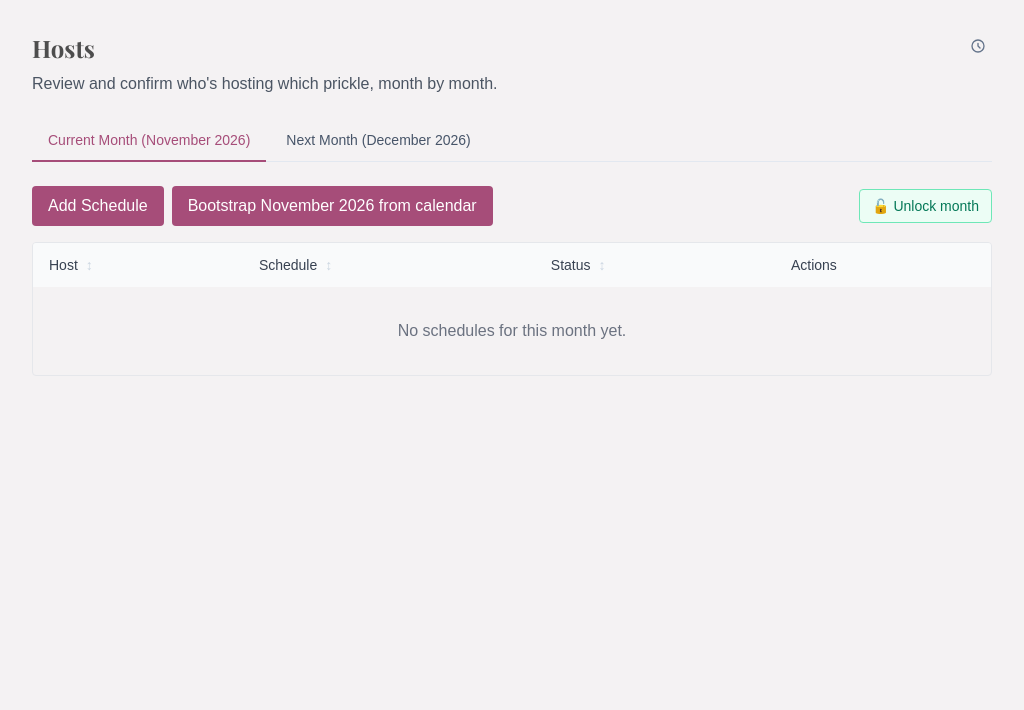
it: HostsClient add-host eligibility warning › warns before saving when the member isn't eligible yet, with the eligible-on date
This screenshot has width=1024, height=710.
Expected: the text "No schedules for this month yet." is shown, left=33, top=287, right=991, bottom=375
Click the button "Add Schedule".
click(98, 206)  # box left=32, top=186, right=164, bottom=226
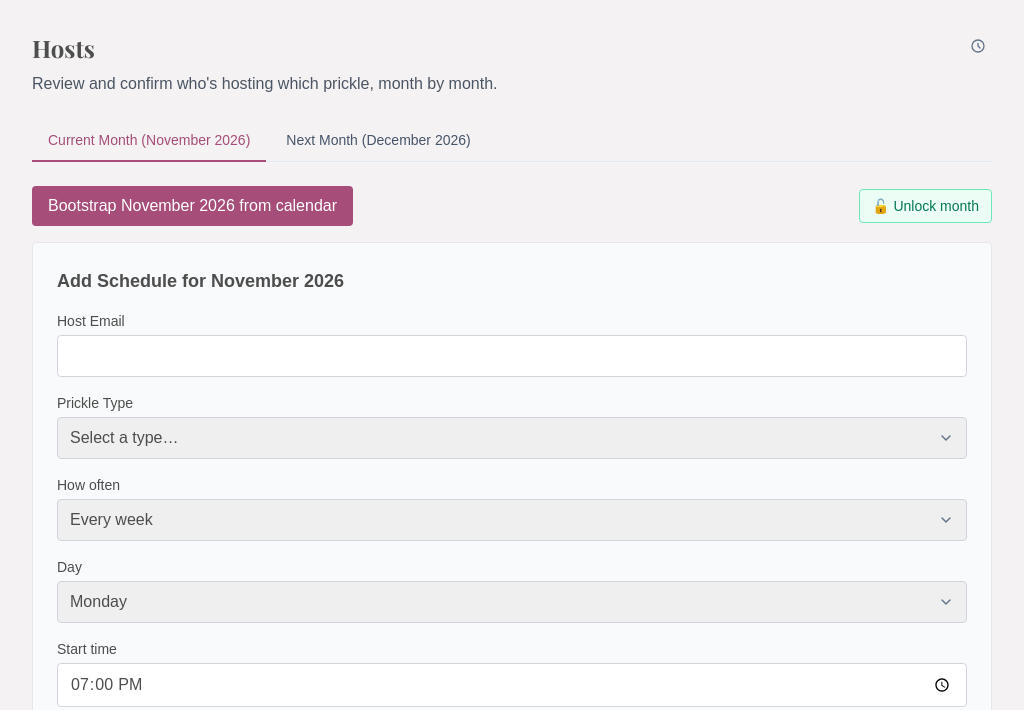
Type "new@example.test" into the field labelled "Host Email".
click(512, 356); type("new@example.test")  # box left=57, top=335, right=967, bottom=377
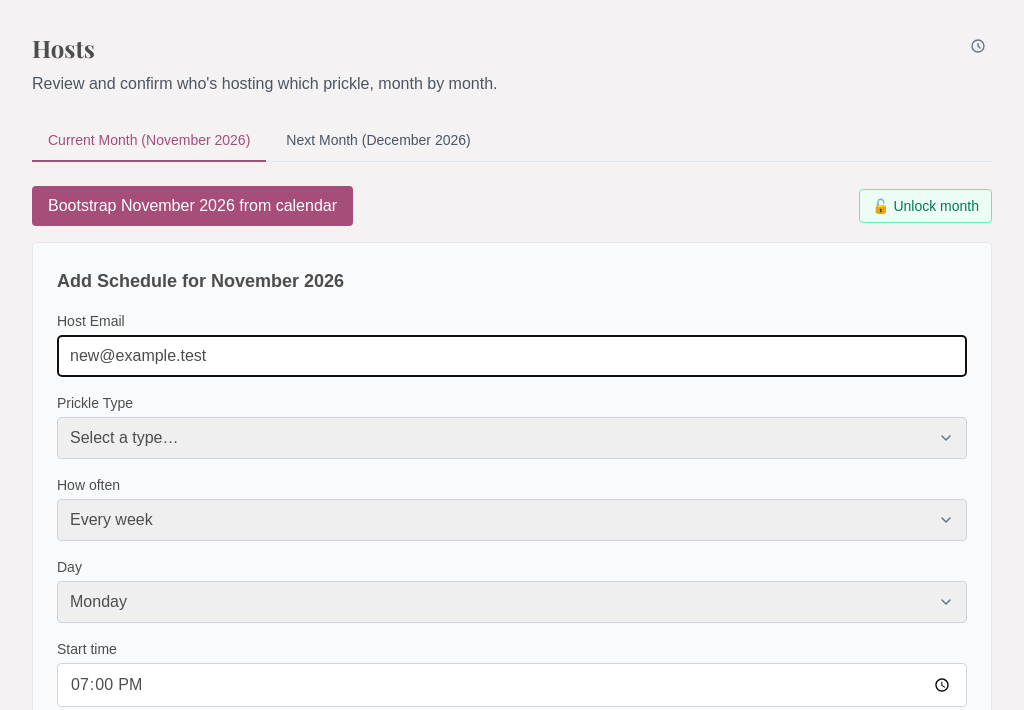
Press Tab
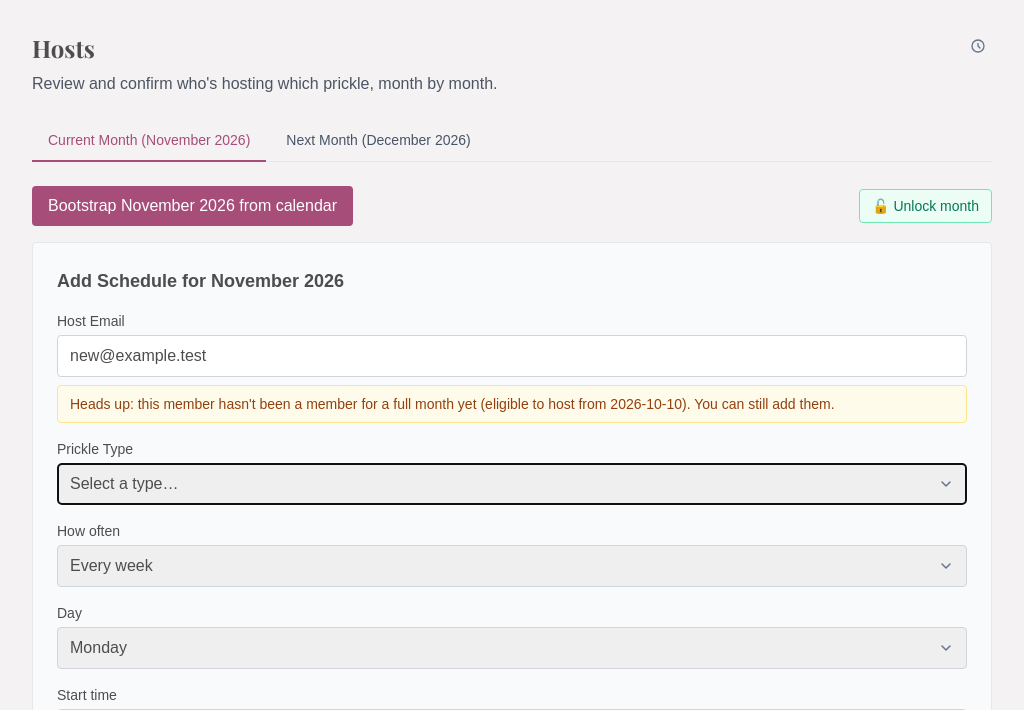
Expected: the message shows "hasn't been a member for a full month yet (eligible to host from 2026-10-10)", left=70, top=396, right=834, bottom=412
